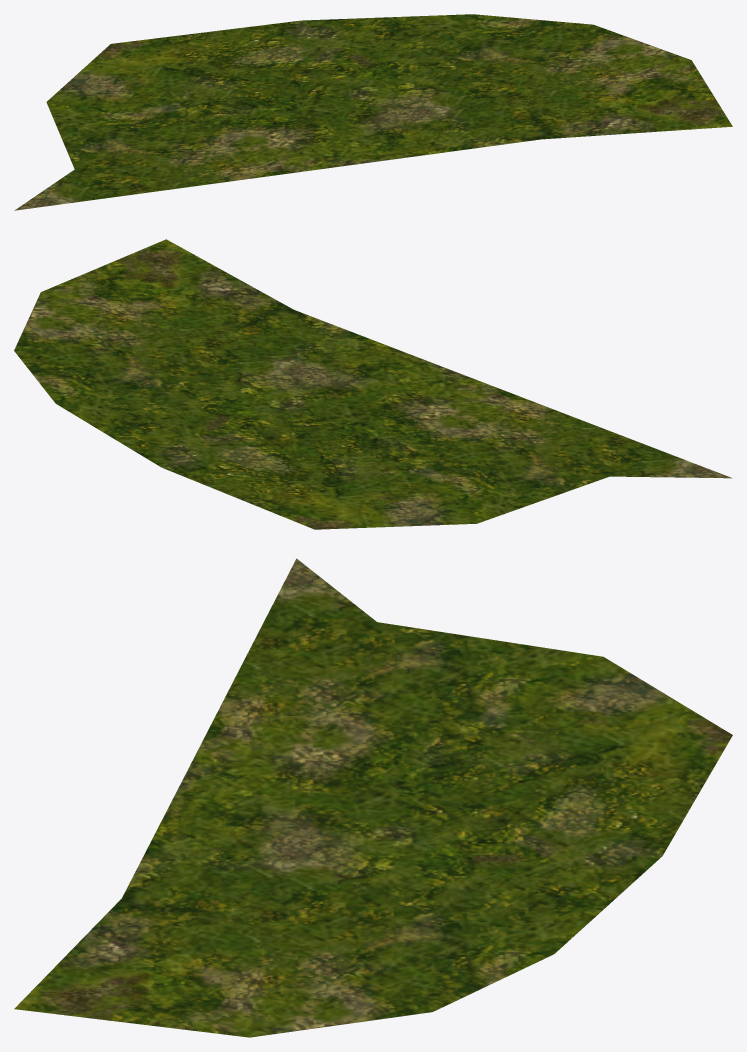
File: OVERHILL_A_01_LINE22.fbx
3 renders of one model, top to bottom at view 1: azimuth 30°, elevation 25°; view 2: azimuth 150°, elevation 25°; view 3: azimuth 270°, elevation 25°, orthographic. The views are drawn at different scales.
Visible parts, largest first — view 1: OVERHILL_A_01_LINE22; view 2: OVERHILL_A_01_LINE22; view 3: OVERHILL_A_01_LINE22.
Part boxes in pixels (x1,y1,x2,y2): OVERHILL_A_01_LINE22: (14,14,732,210); OVERHILL_A_01_LINE22: (14,239,732,529); OVERHILL_A_01_LINE22: (14,558,732,1037).
Bounding box in the file's own units: 35182 × 67.57 × 22260.
1 material, 1 textured.
